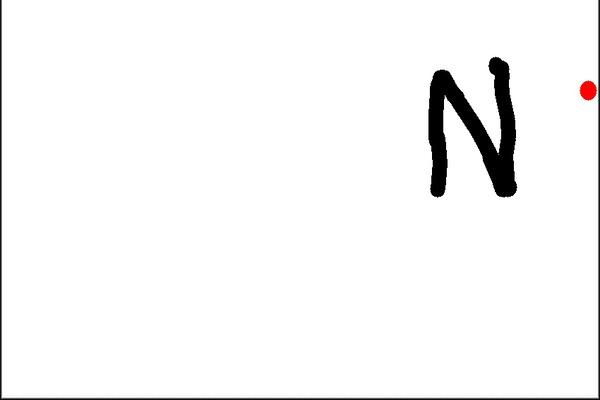N: (419, 47, 526, 208)
